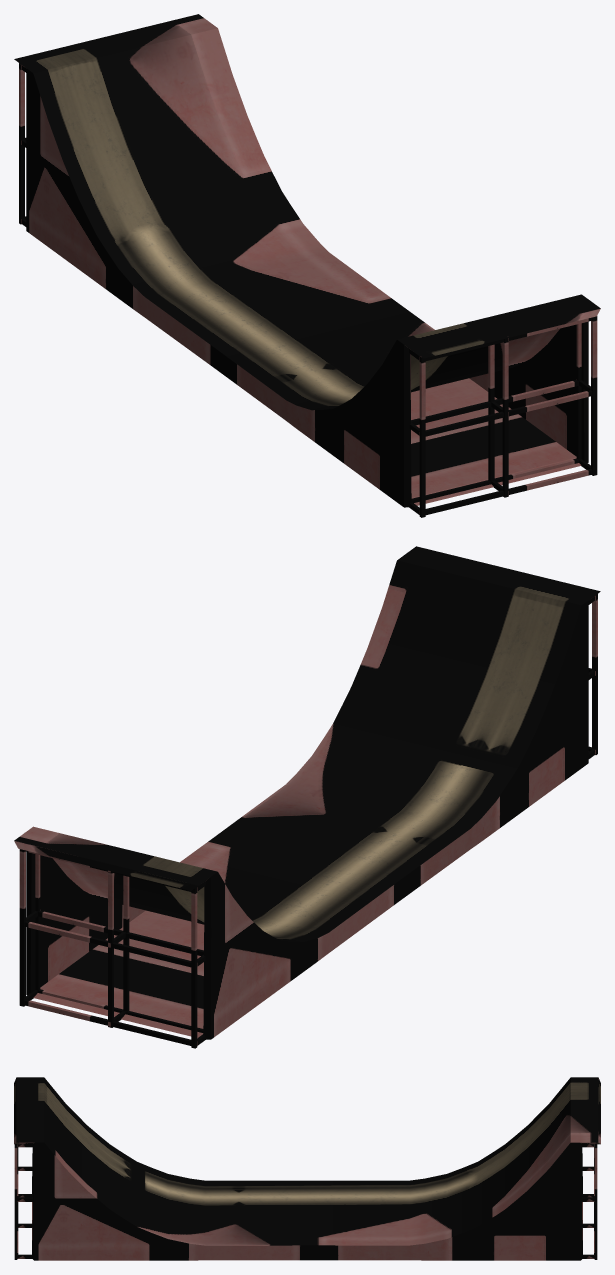
The model's file is Ramp05.fbx.
3 renders of one model, top to bottom at view 1: azimuth 30°, elevation 25°; view 2: azimuth 150°, elevation 25°; view 3: azimuth 270°, elevation 25°, orthographic. The views are drawn at different scales.
Parts seen in each view (by area): view 1: Ramp05; view 2: Ramp05; view 3: Ramp05.
Part boxes in pixels (x1,y1,x2,y2): Ramp05: (14,14,600,517); Ramp05: (14,546,600,1048); Ramp05: (14,1077,600,1260).
Size of the model in its own units: 3.95 by 3.36 by 15.02.
